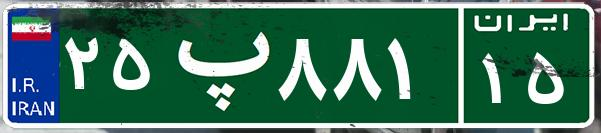1: (385, 28, 445, 110), (475, 38, 525, 113)
2: (57, 26, 110, 107)
5: (110, 28, 158, 105), (525, 38, 570, 115)
8: (273, 28, 330, 110), (330, 28, 385, 110)
پ: (158, 15, 273, 115)
